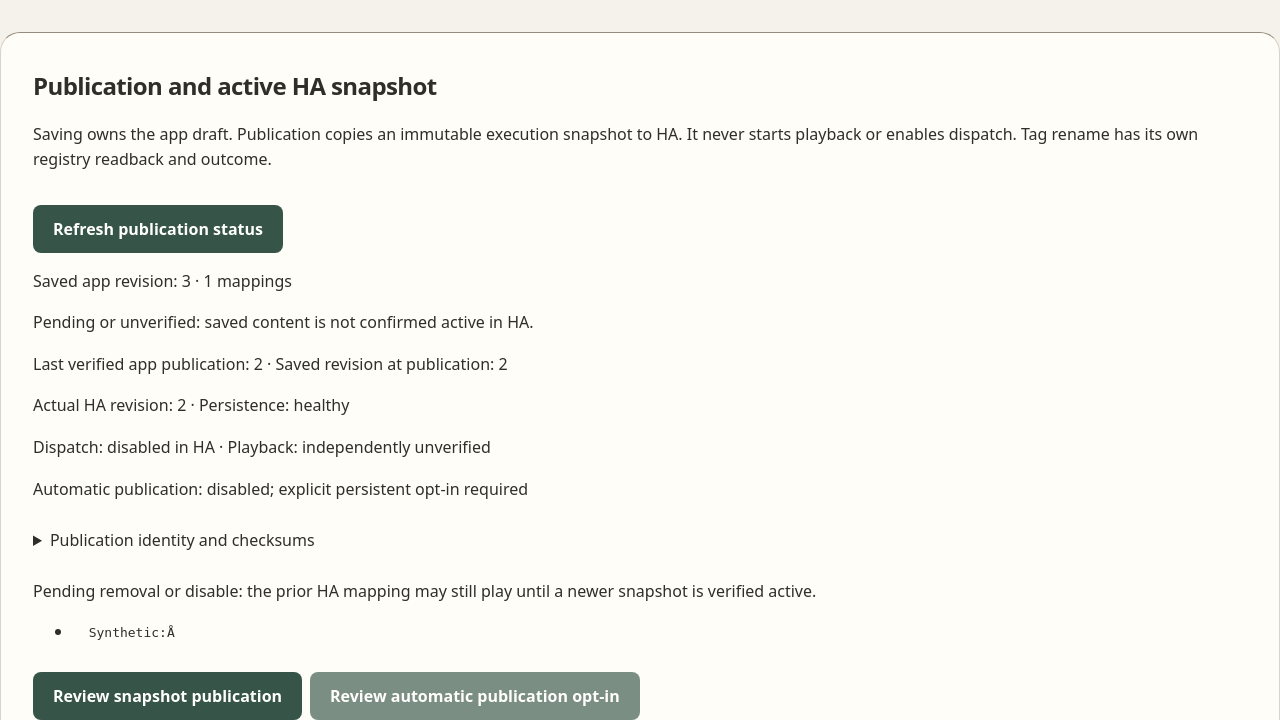
preserves keyboard position on a successful status refresh and fences a review of older content
The width and height of the screenshot is (1280, 720).
Click the button "Review snapshot publication". click: (168, 696)
box: top-left (33, 672), bottom-right (302, 719)
(page scrolled)
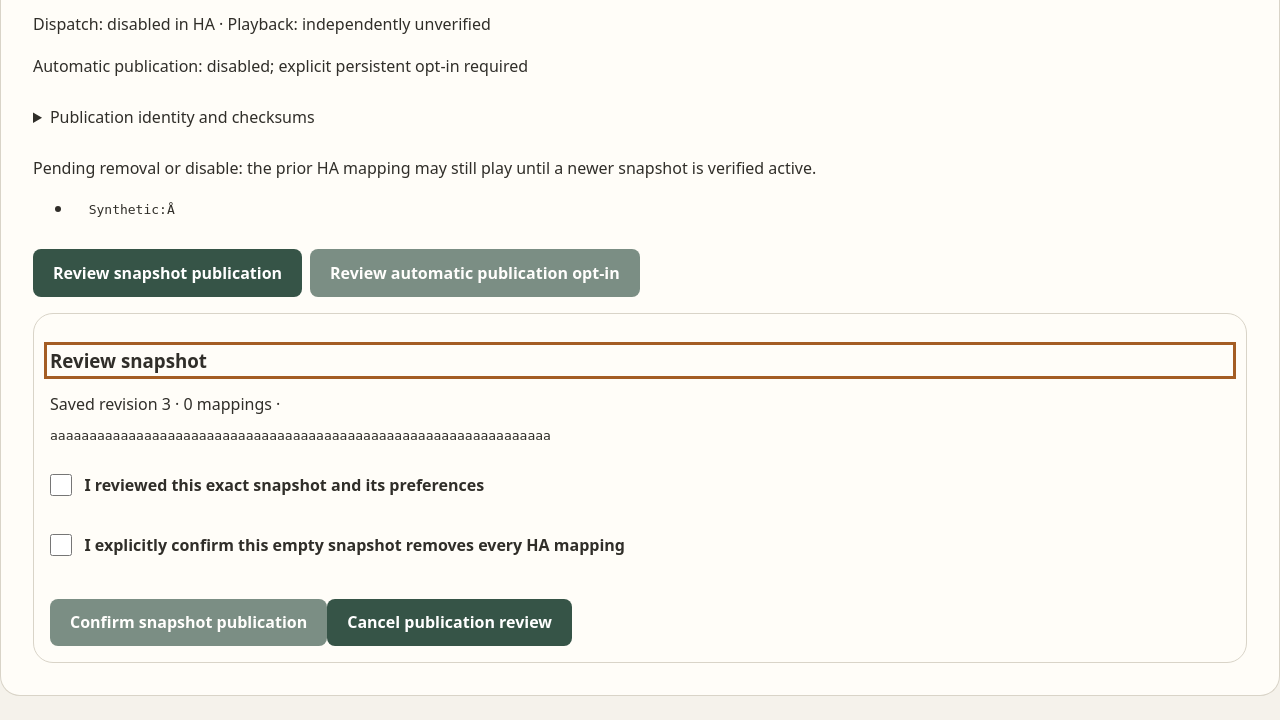
Click the checkbox labelled "I reviewed this exact snapshot and its preferences". click: (61, 484)
box: top-left (50, 462), bottom-right (72, 506)
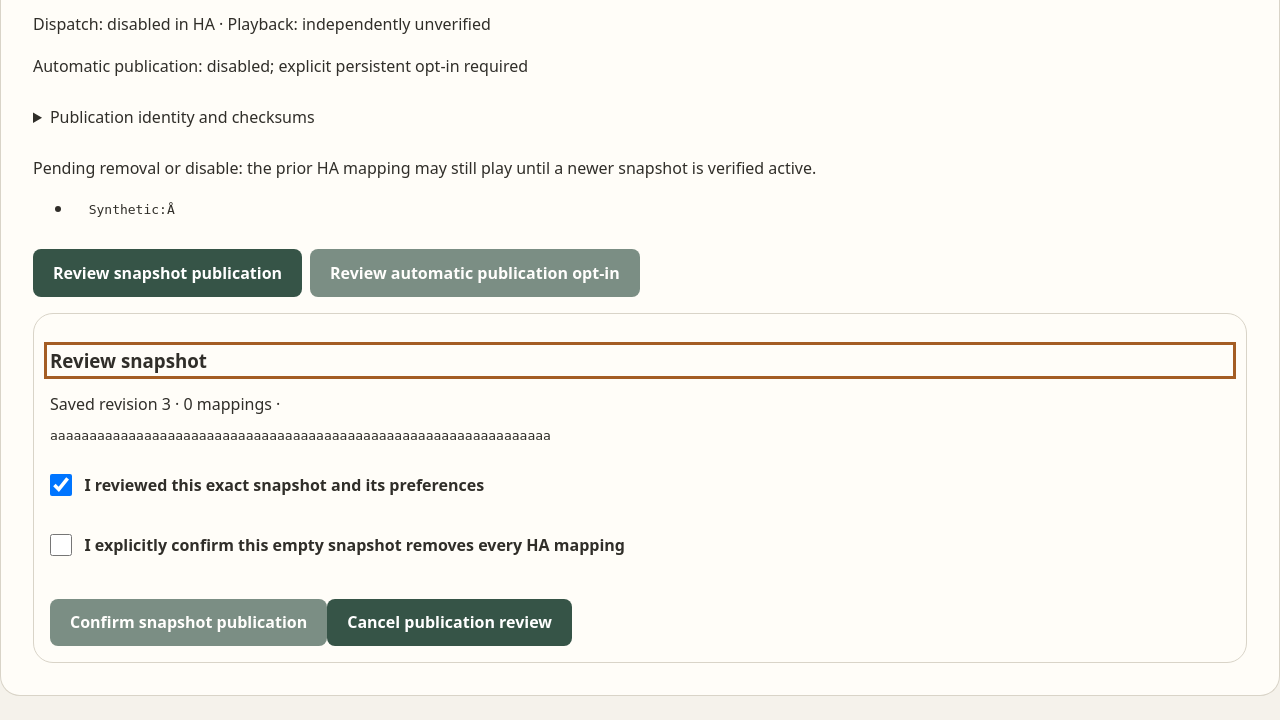
Click the checkbox labelled "I explicitly confirm this empty snapshot". click: (61, 544)
box: top-left (50, 522), bottom-right (72, 566)
(page scrolled)
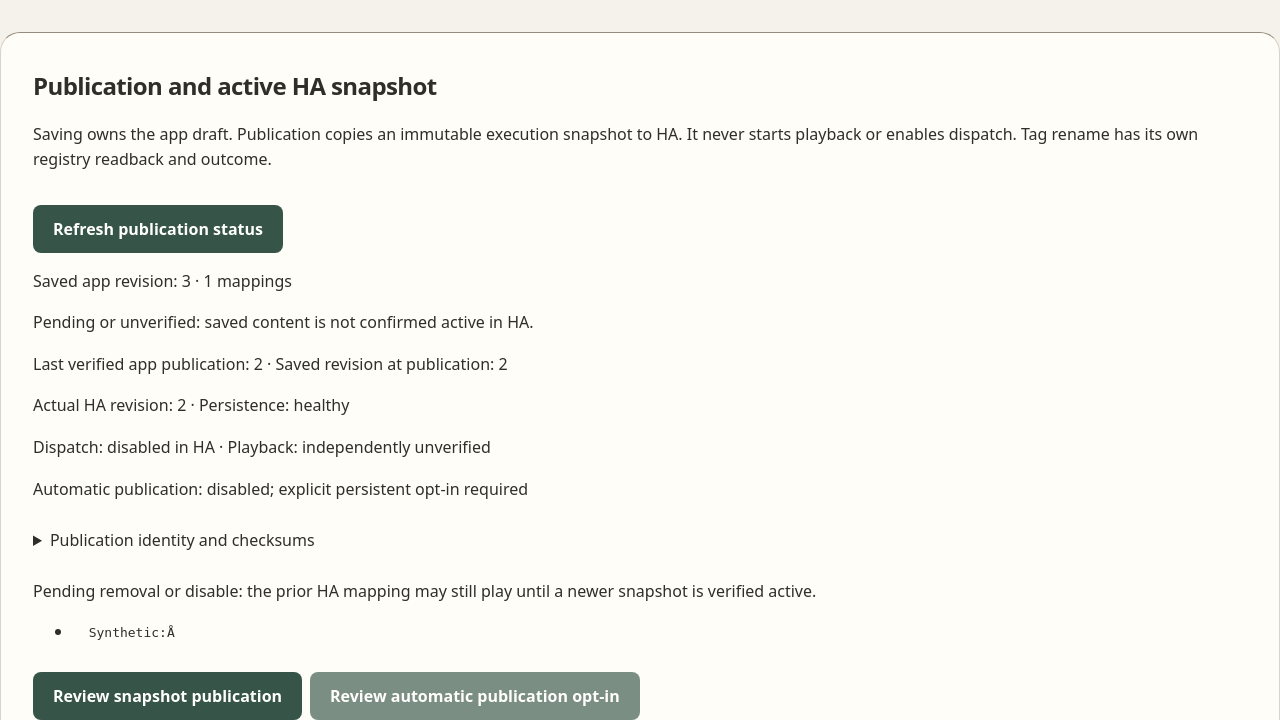
Click the button "Refresh publication status". click: (158, 229)
box: top-left (33, 205), bottom-right (283, 253)
(page scrolled)
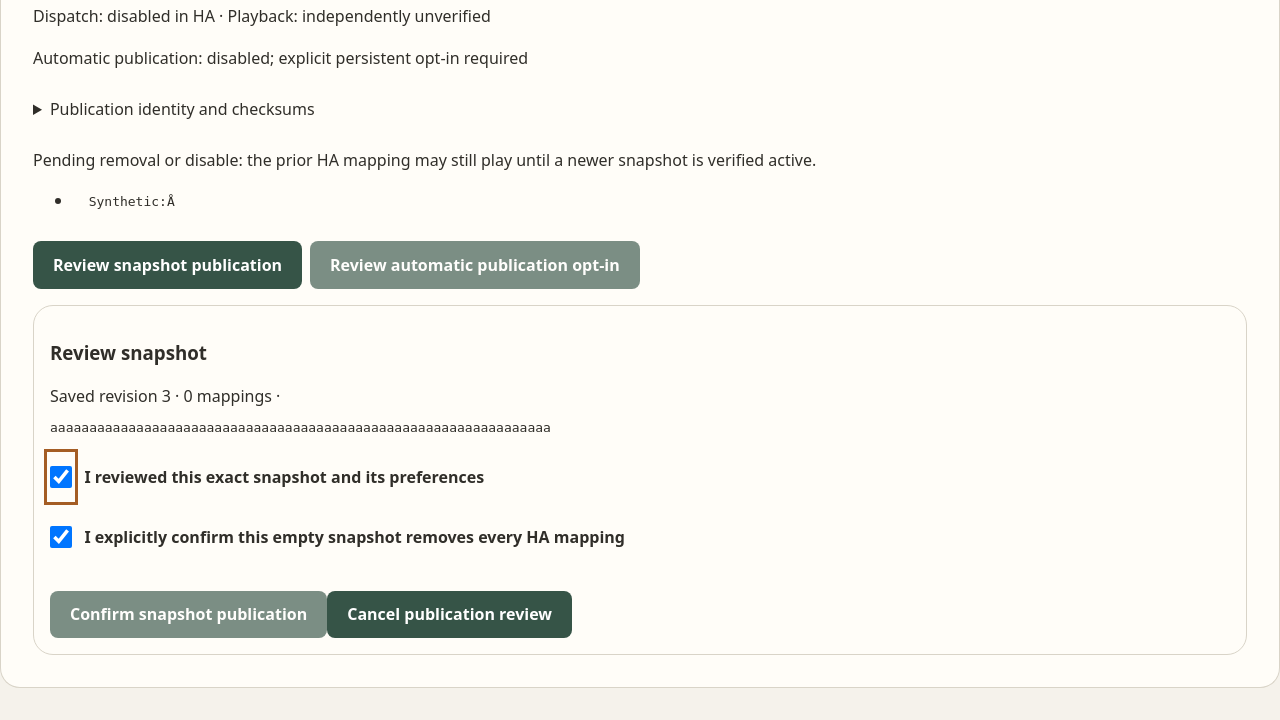
Now the button "Confirm snapshot publication" is disabled, box top-left (50, 590), bottom-right (327, 638)
